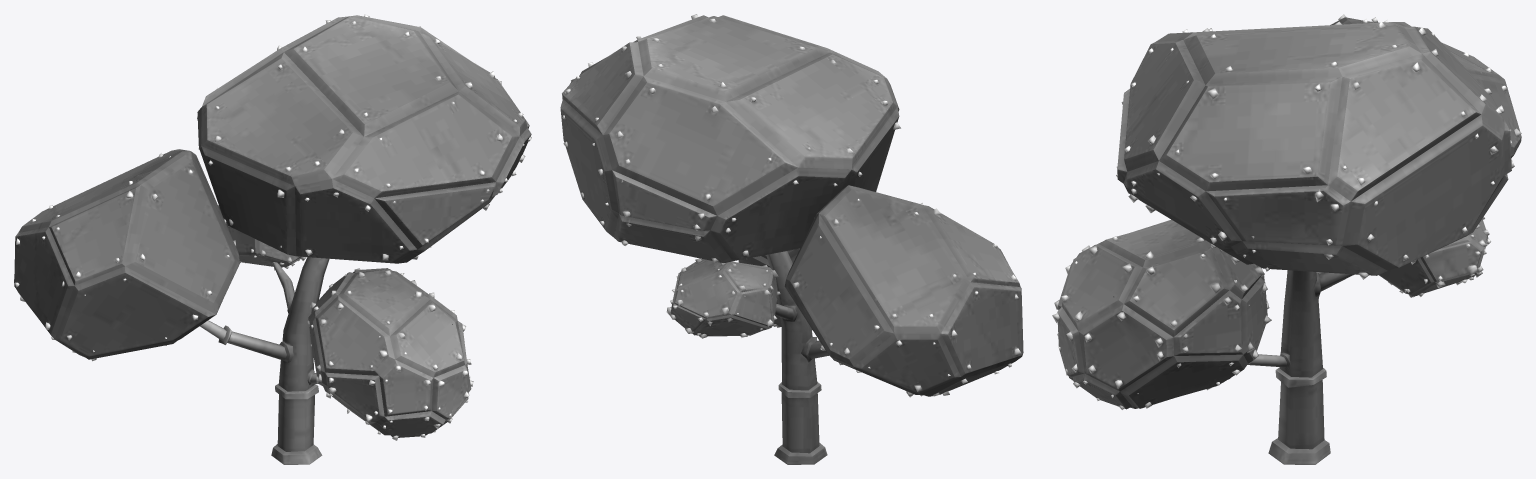
Rendered from obj_tree02_alt.gltf.
3 views of the same model, side by side, from view 1: azimuth 30°, elevation 25°; view 2: azimuth 150°, elevation 25°; view 3: azimuth 270°, elevation 25° (orthographic). The views are drawn at different scales.
Visible parts, largest first — view 1: obj_tree02_alt; view 2: obj_tree02_alt; view 3: obj_tree02_alt.
Part boxes in pixels (x1,y1,x2,y2): obj_tree02_alt: (14,14,531,464); obj_tree02_alt: (560,14,1023,464); obj_tree02_alt: (1052,14,1521,464).
Size of what is drawn, in the model's own units: 5.04 by 4.12 by 3.76.
Materials: 1 (1 with a texture image).
